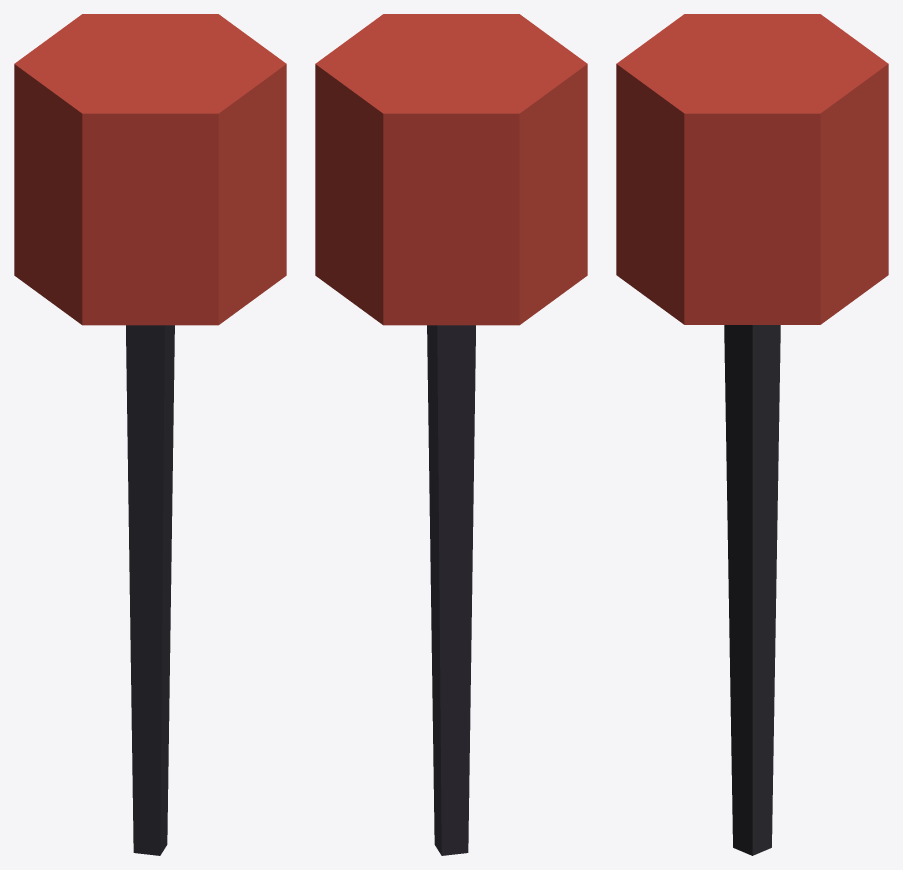
The model's file is map-pin.glb.
3 views of the same model, side by side, from view 1: azimuth 30°, elevation 25°; view 2: azimuth 150°, elevation 25°; view 3: azimuth 270°, elevation 25° (orthographic).
Visible parts, largest first — view 1: pin-head, map-pin; view 2: pin-head, map-pin; view 3: pin-head, map-pin.
Boxes of the visible parts, <box> form: pin-head: <box>14,14,286,325</box>; map-pin: <box>126,325,174,855</box>; pin-head: <box>315,14,587,325</box>; map-pin: <box>427,325,475,855</box>; pin-head: <box>616,14,888,324</box>; map-pin: <box>724,325,780,855</box>.
Size of the model in its own units: 0.2424 by 0.89 by 0.28.
